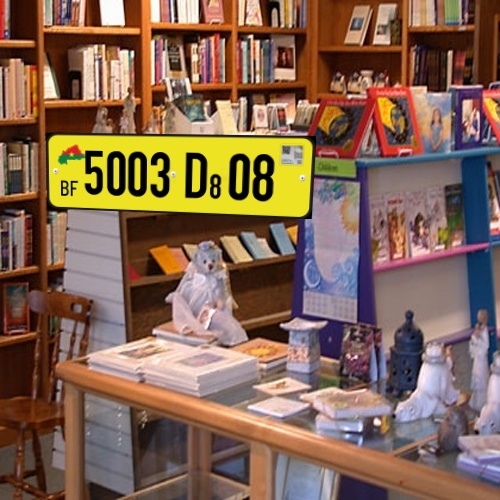plate: (33, 119, 320, 241)
